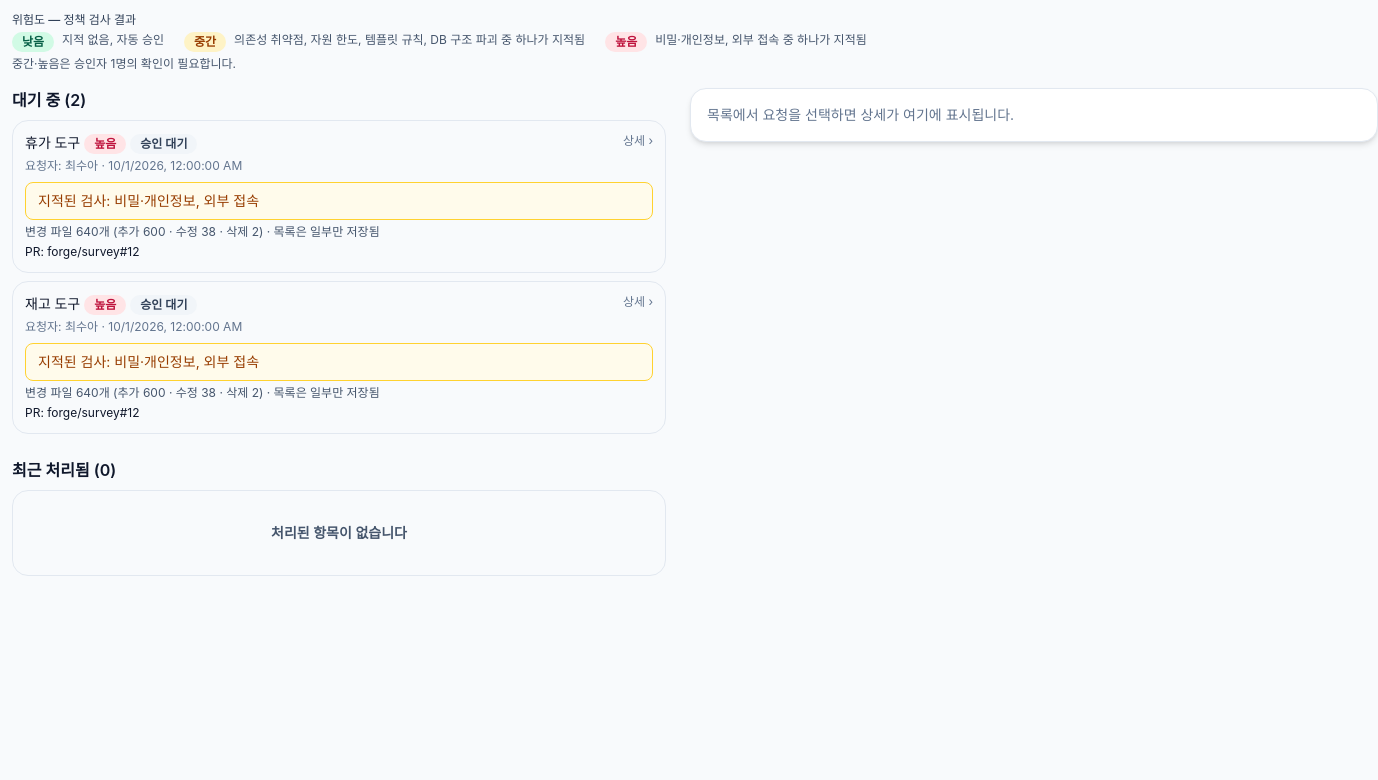
Scenario: the pinned header and its four chips › holds four chips of words only: a label and a value, no icon, no control
The width and height of the screenshot is (1378, 780).
Step 1. Click the list item with aria-label "휴가 도구 요청 상세 보기" → (339, 196), box [12,120,666,273]
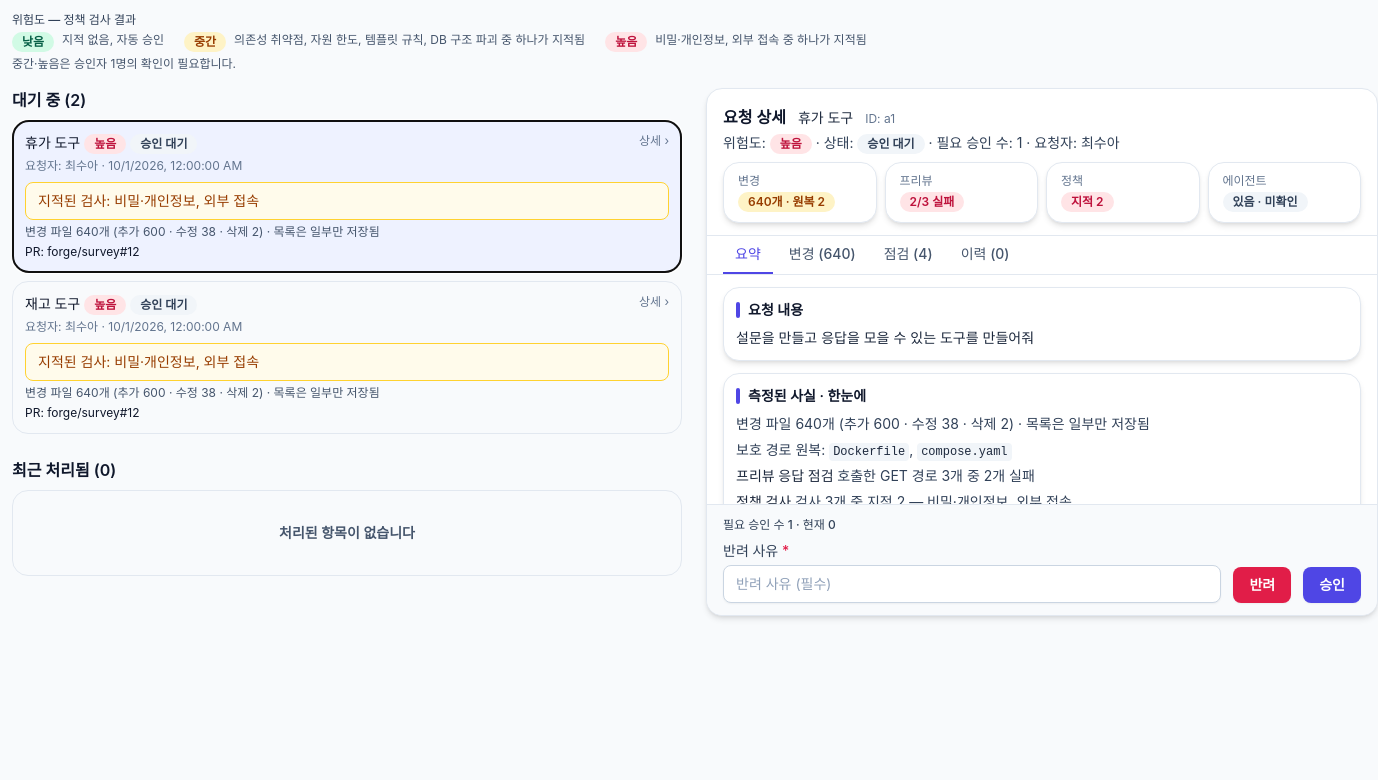
Now the element named "점검 결과 요약" reads "변경 640개 · 원복 2 프리뷰 2/3 실패 정책 지적 2 에이전트 있음 · 미확인", box [723,162,1361,223]
